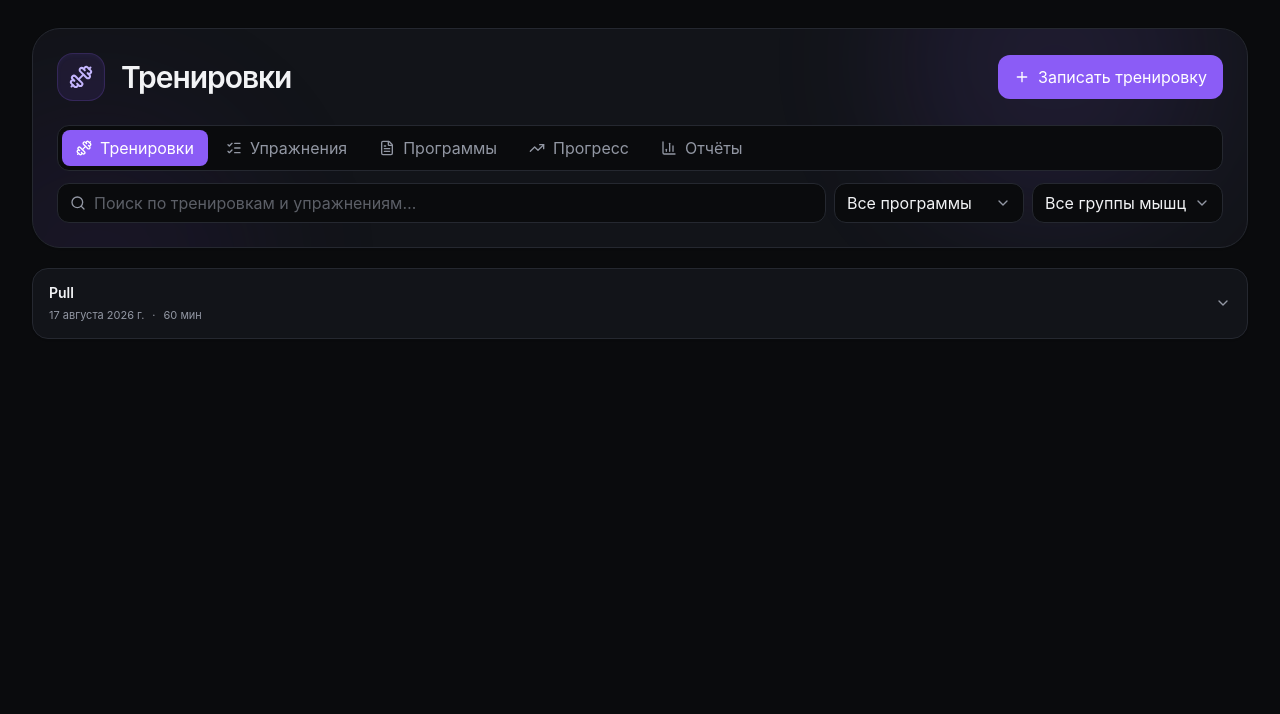
Scenario: WorkoutsPage › opens extensive reports with muscle distribution and exercise analytics
The width and height of the screenshot is (1280, 714).
What coordinates should you click on to do the following:
click the button "Отчёты"
I would click on:
 (702, 148)
Its box is [647,130,757,166].
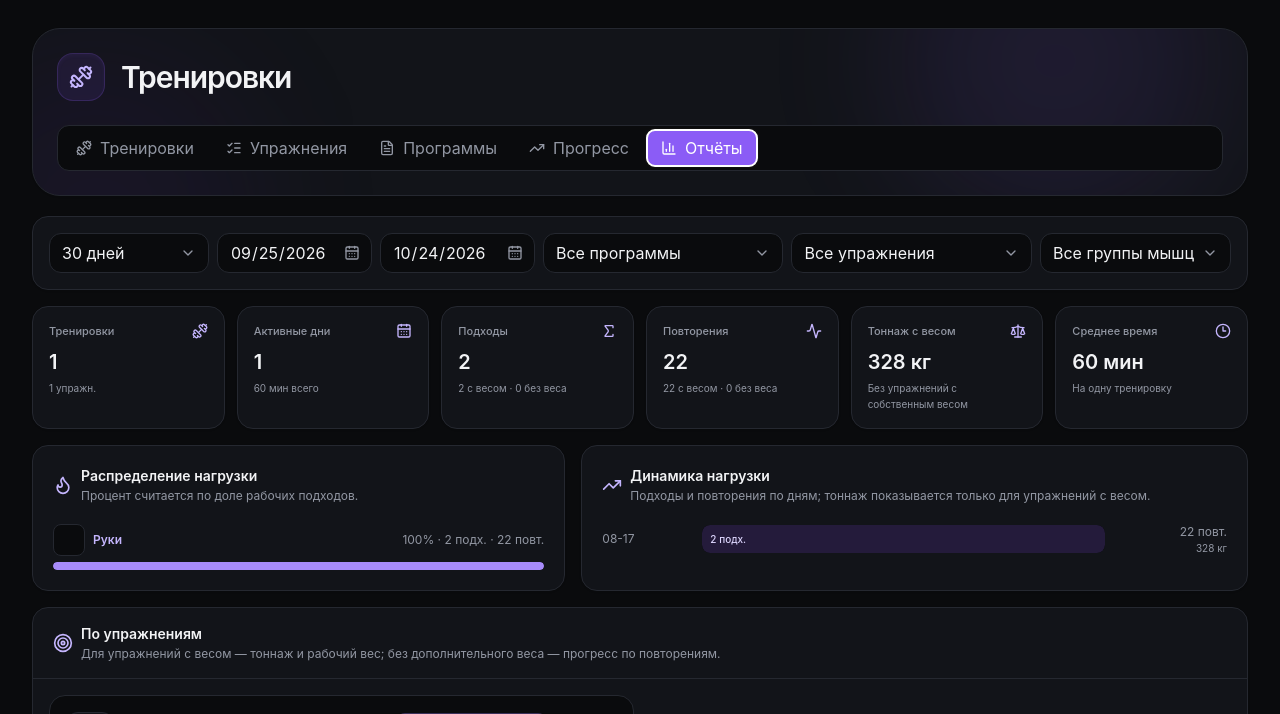
Expected: the heading "Распределение нагрузки" is shown, [81,466,257,484]
Expected: the heading "По упражнениям" is shown, [81,624,202,642]
Expected: the text "2 с весом · 0 без веса" is shown, [458,382,567,394]
What coordinates should you click on to do the following:
click the button named "Открыть календарь для поля «Начало периода»"
I would click on:
 (352, 253)
Its box is [336,237,368,269].
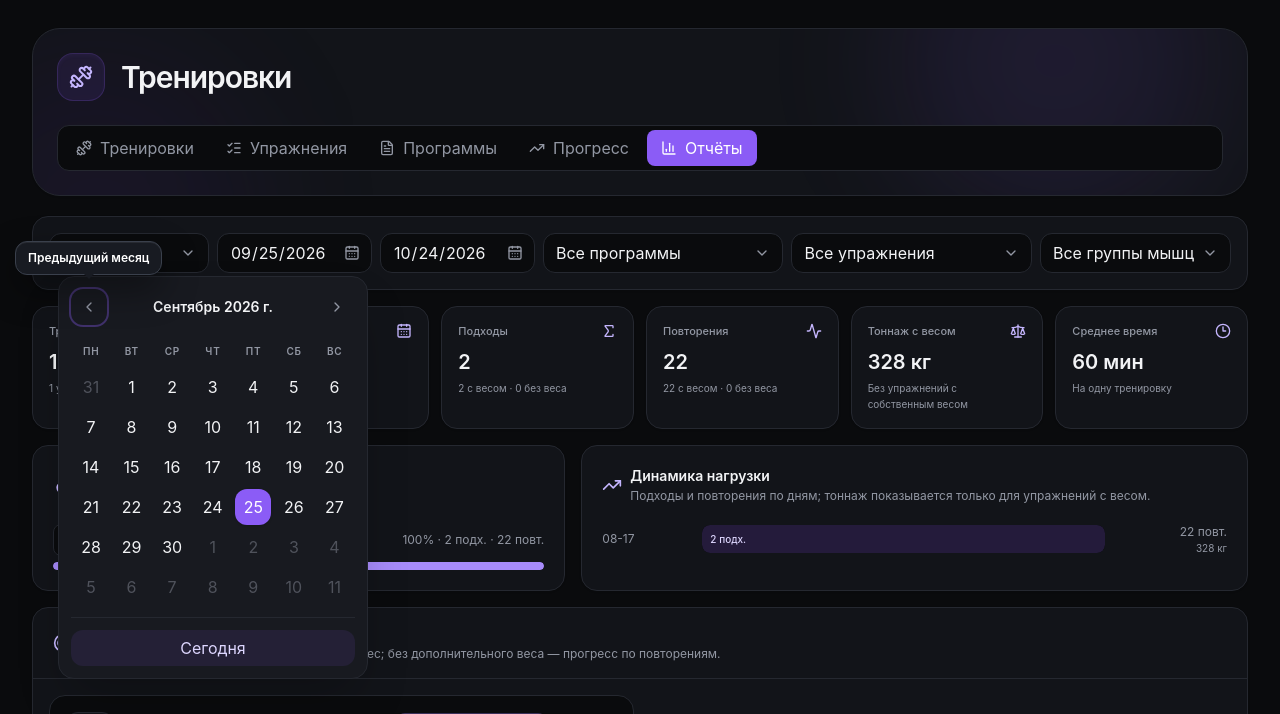
Expected: the dialog with test id "app-date-field-popover" is shown, [58,276,368,679]
